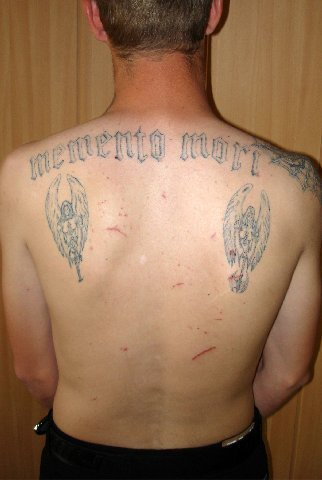tatu1_angel: (216, 180, 274, 297), (42, 174, 99, 287)
tatu3_bukva: (25, 128, 267, 179)
